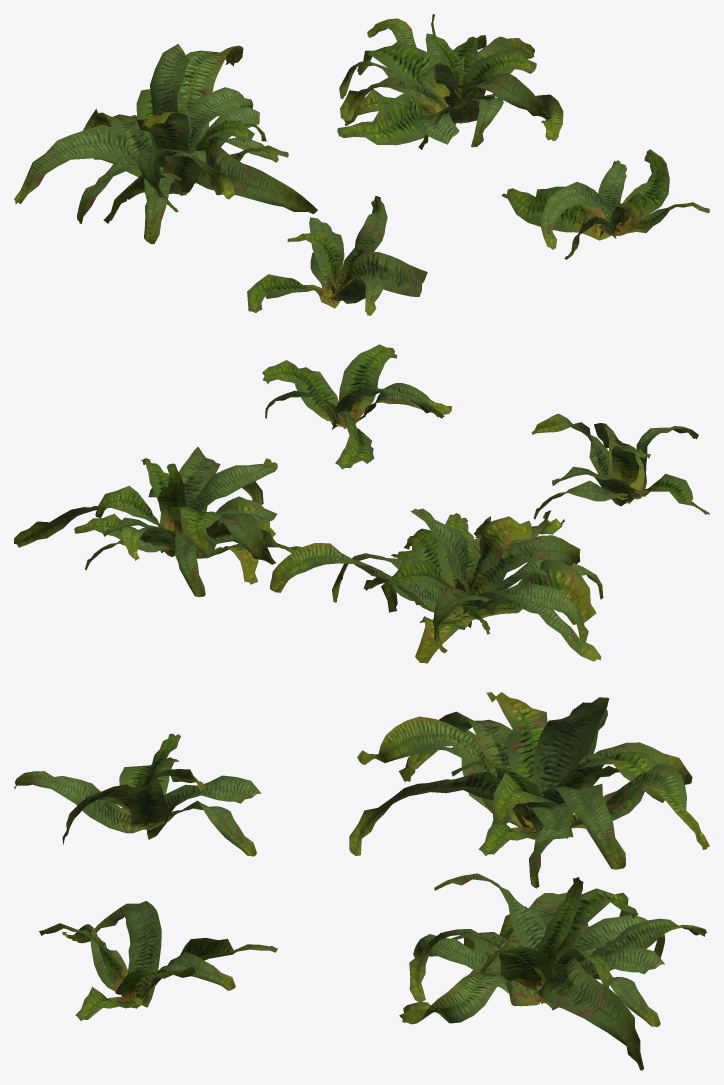
Rendered from fern_02.gltf.
3 views of the same model, one above another, from view 1: azimuth 30°, elevation 25°; view 2: azimuth 150°, elevation 25°; view 3: azimuth 270°, elevation 25° (orthographic). The views are drawn at different scales.
Parts seen in each view (by area): view 1: fern_02_b, fern_02_c, fern_02_d, fern_02_a; view 2: fern_02_b, fern_02_c, fern_02_d, fern_02_a; view 3: fern_02_b, fern_02_c, fern_02_a, fern_02_d.
Boxes of the visible parts, x1,y1,x2,y2 form: fern_02_b: (14, 44, 317, 244); fern_02_c: (337, 14, 563, 149); fern_02_d: (501, 149, 709, 259); fern_02_a: (247, 196, 427, 315); fern_02_b: (269, 508, 603, 663); fern_02_c: (14, 447, 301, 596); fern_02_d: (262, 344, 451, 469); fern_02_a: (531, 413, 709, 519); fern_02_b: (349, 692, 709, 888); fern_02_c: (399, 873, 707, 1070); fern_02_a: (14, 733, 261, 856); fern_02_d: (39, 901, 277, 1020).
Size of the model in its own units: 1.97 by 0.4277 by 1.72.
Materials: 1 (1 with a texture image).
